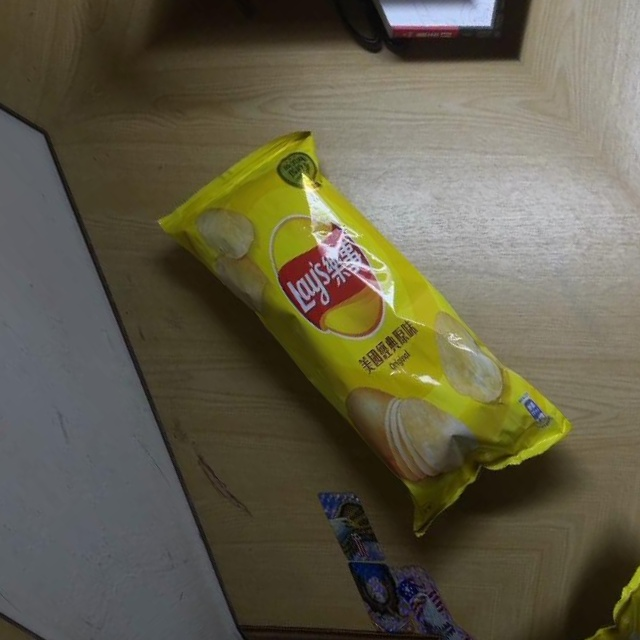Lay-s-original: (149, 96, 577, 553)
